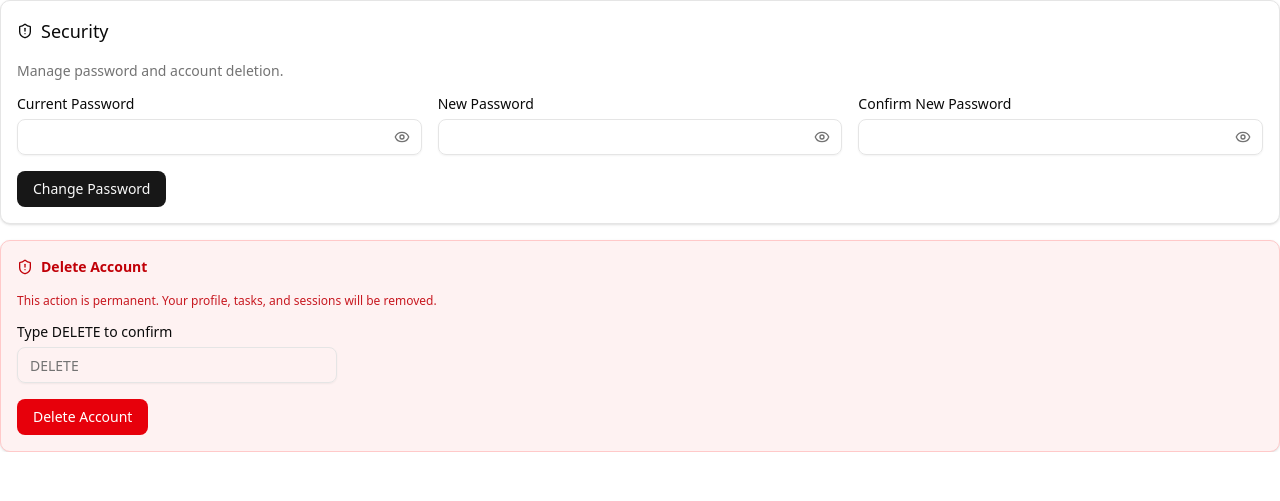
Scenario: SecuritySettings Component › shows error when current password is empty
Click the button "Change Password".
click(92, 189)  # box [17, 171, 166, 207]
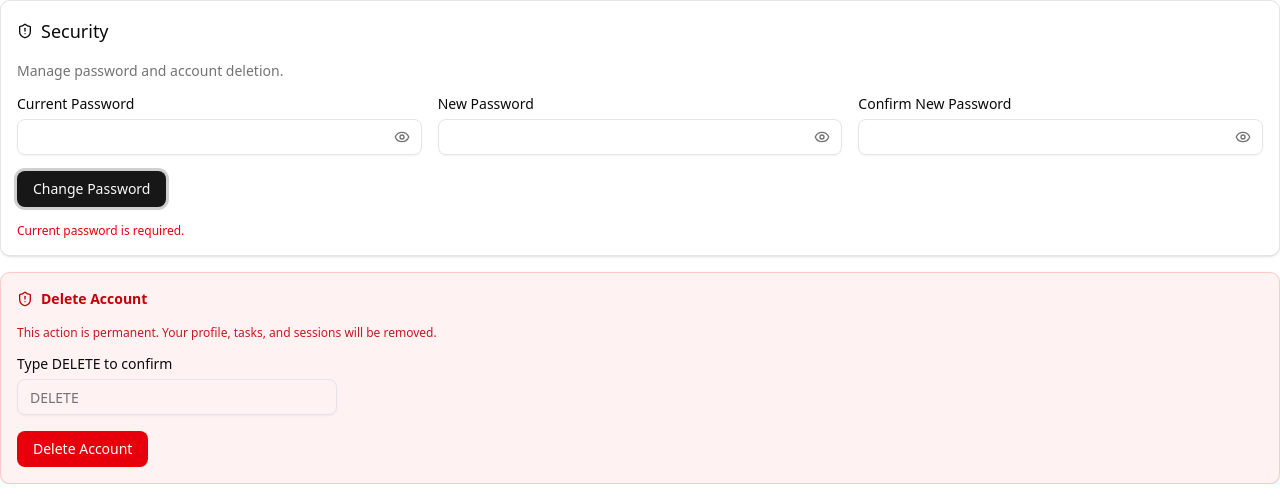
Expected: the text "Current password is required." is shown, [17, 222, 184, 239]
